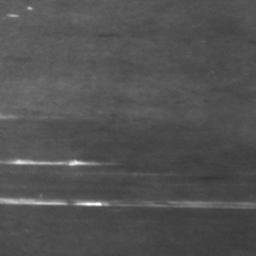Bright scratch: (0, 196, 256, 210), (0, 159, 102, 168)
